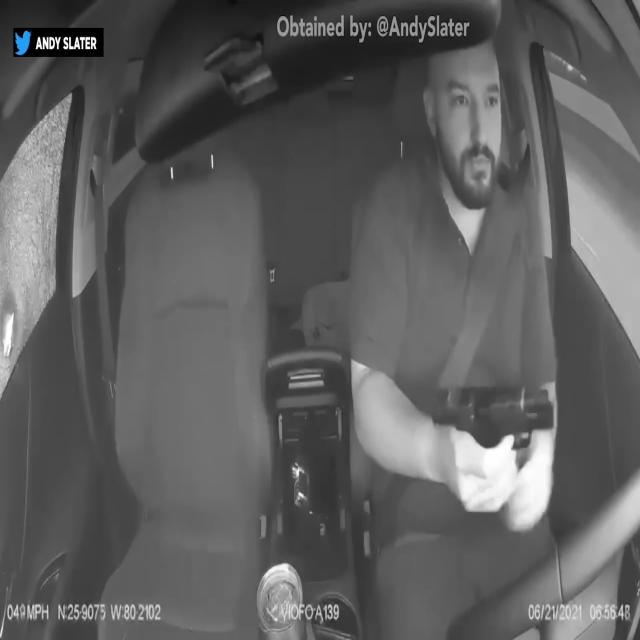senjata_api: (428, 376, 556, 449)
